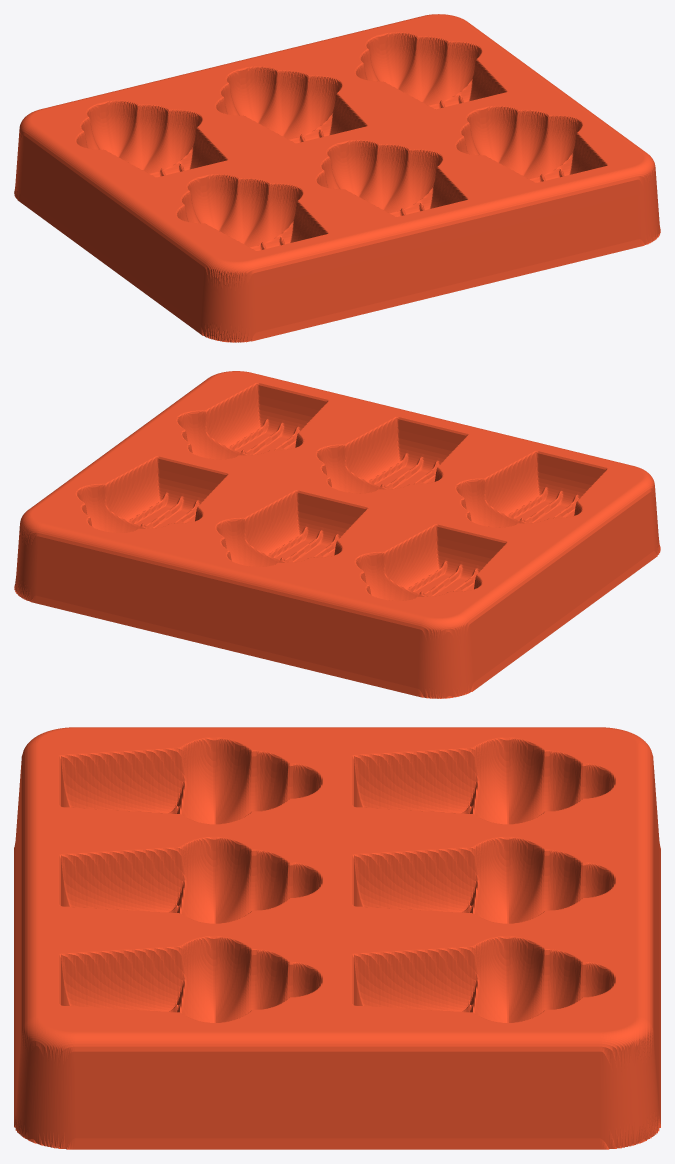
Rendered from mold.glb.
3 renders of one model, top to bottom at view 1: azimuth 30°, elevation 25°; view 2: azimuth 150°, elevation 25°; view 3: azimuth 270°, elevation 25°, orthographic. The views are drawn at different scales.
Visible parts, largest first — view 1: geometry_0; view 2: geometry_0; view 3: geometry_0.
Part boxes in pixels (x1,y1,x2,y2): geometry_0: [14, 14, 660, 342]; geometry_0: [14, 371, 660, 698]; geometry_0: [14, 727, 660, 1149].
Bounding box in the file's own units: 0.113 × 0.0175 × 0.0955.
